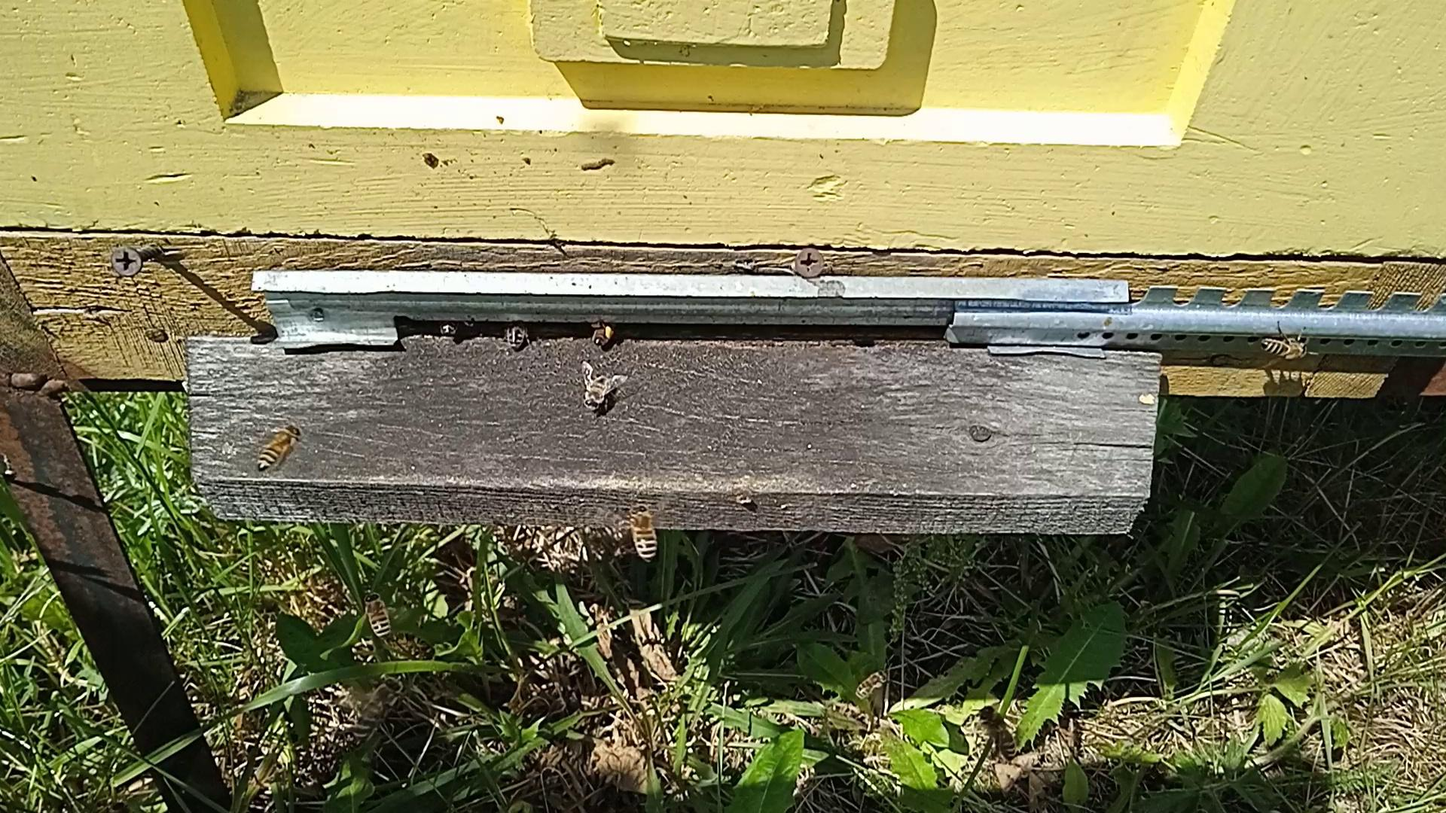worker-bee: (975, 701, 1017, 760), (357, 679, 402, 732), (256, 425, 301, 471), (627, 504, 659, 564), (1257, 336, 1311, 363), (364, 592, 392, 638), (581, 373, 613, 411), (501, 321, 532, 351), (855, 670, 887, 698), (590, 319, 618, 349), (435, 321, 461, 338)
